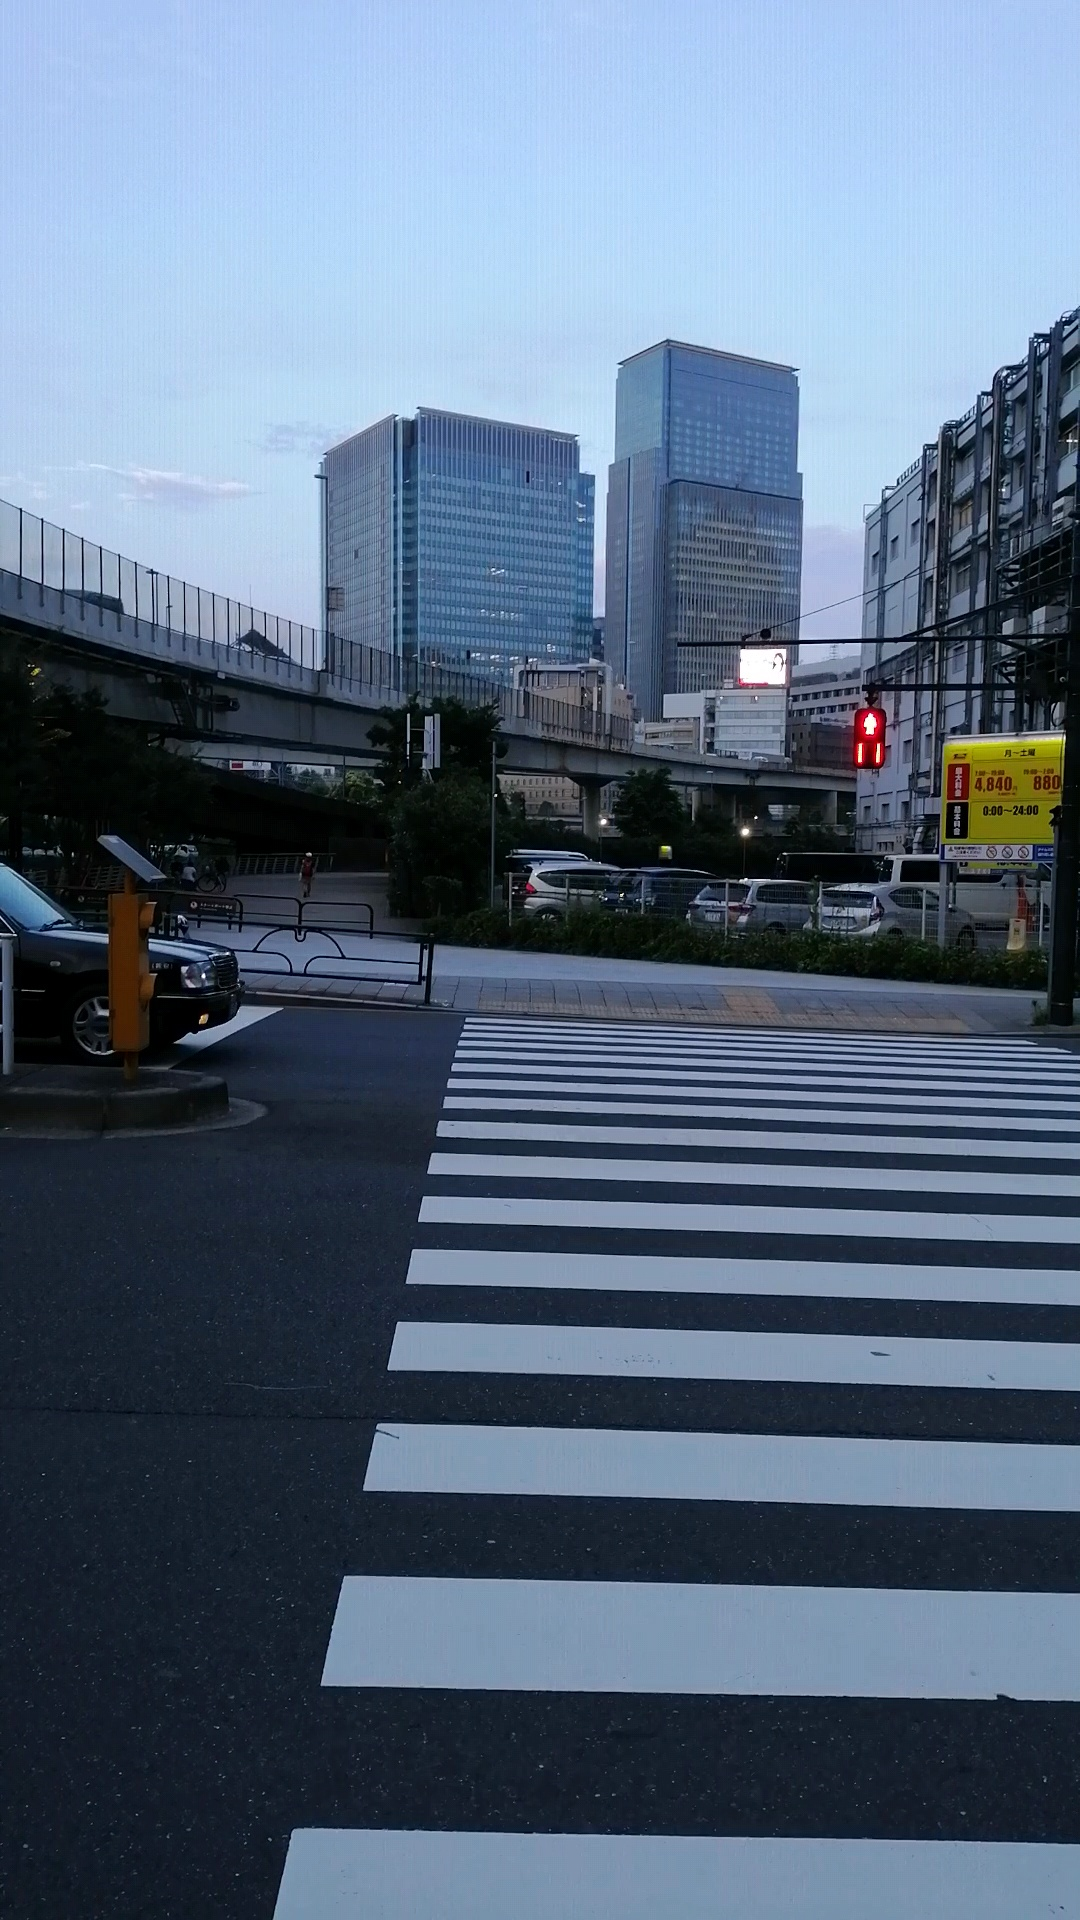red: (853, 705, 887, 767)
